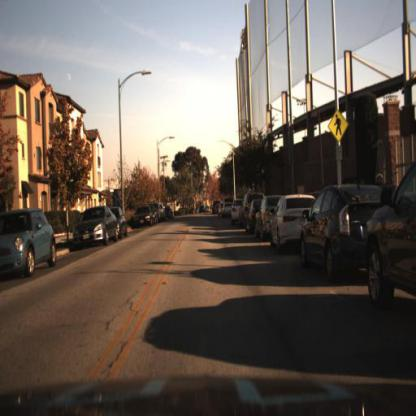car: (295, 179, 368, 292), (368, 157, 416, 319), (1, 209, 59, 282), (272, 192, 322, 258), (68, 201, 119, 256), (267, 194, 306, 259), (258, 194, 275, 241), (116, 203, 131, 245), (133, 204, 153, 231)
